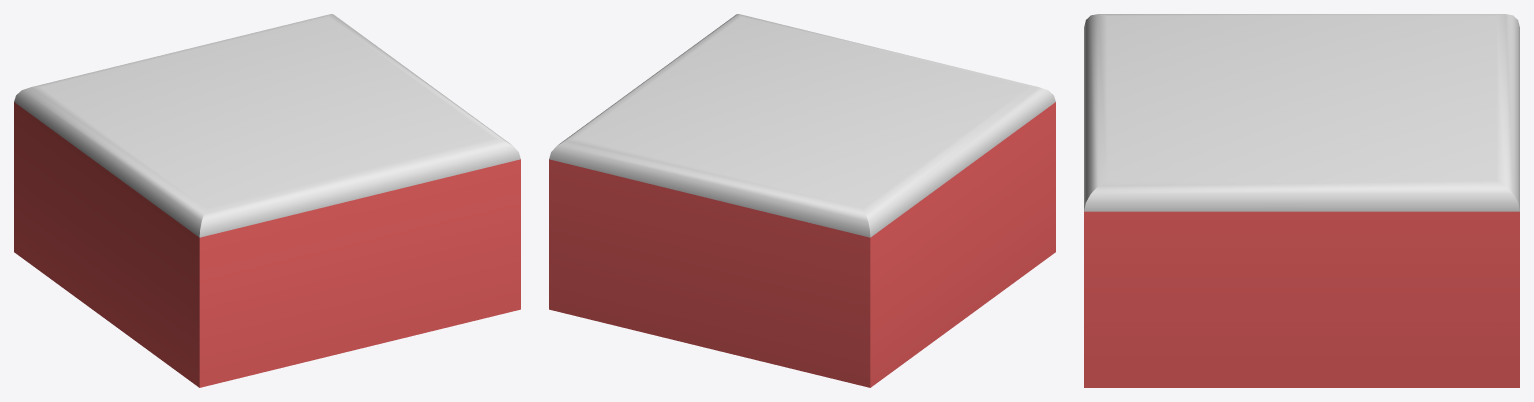
Rendered from CubeForTile_04.2.fbx.
3 views of the same model, side by side, from view 1: azimuth 30°, elevation 25°; view 2: azimuth 150°, elevation 25°; view 3: azimuth 270°, elevation 25° (orthographic). The views are drawn at different scales.
Parts seen in each view (by area): view 1: CubeForTile_04.2; view 2: CubeForTile_04.2; view 3: CubeForTile_04.2.
Boxes of the visible parts, bbox=[...] form: CubeForTile_04.2: bbox=[14, 14, 520, 387]; CubeForTile_04.2: bbox=[549, 14, 1055, 387]; CubeForTile_04.2: bbox=[1084, 14, 1519, 387].
Size of the model in its own units: 200 by 100 by 200.
